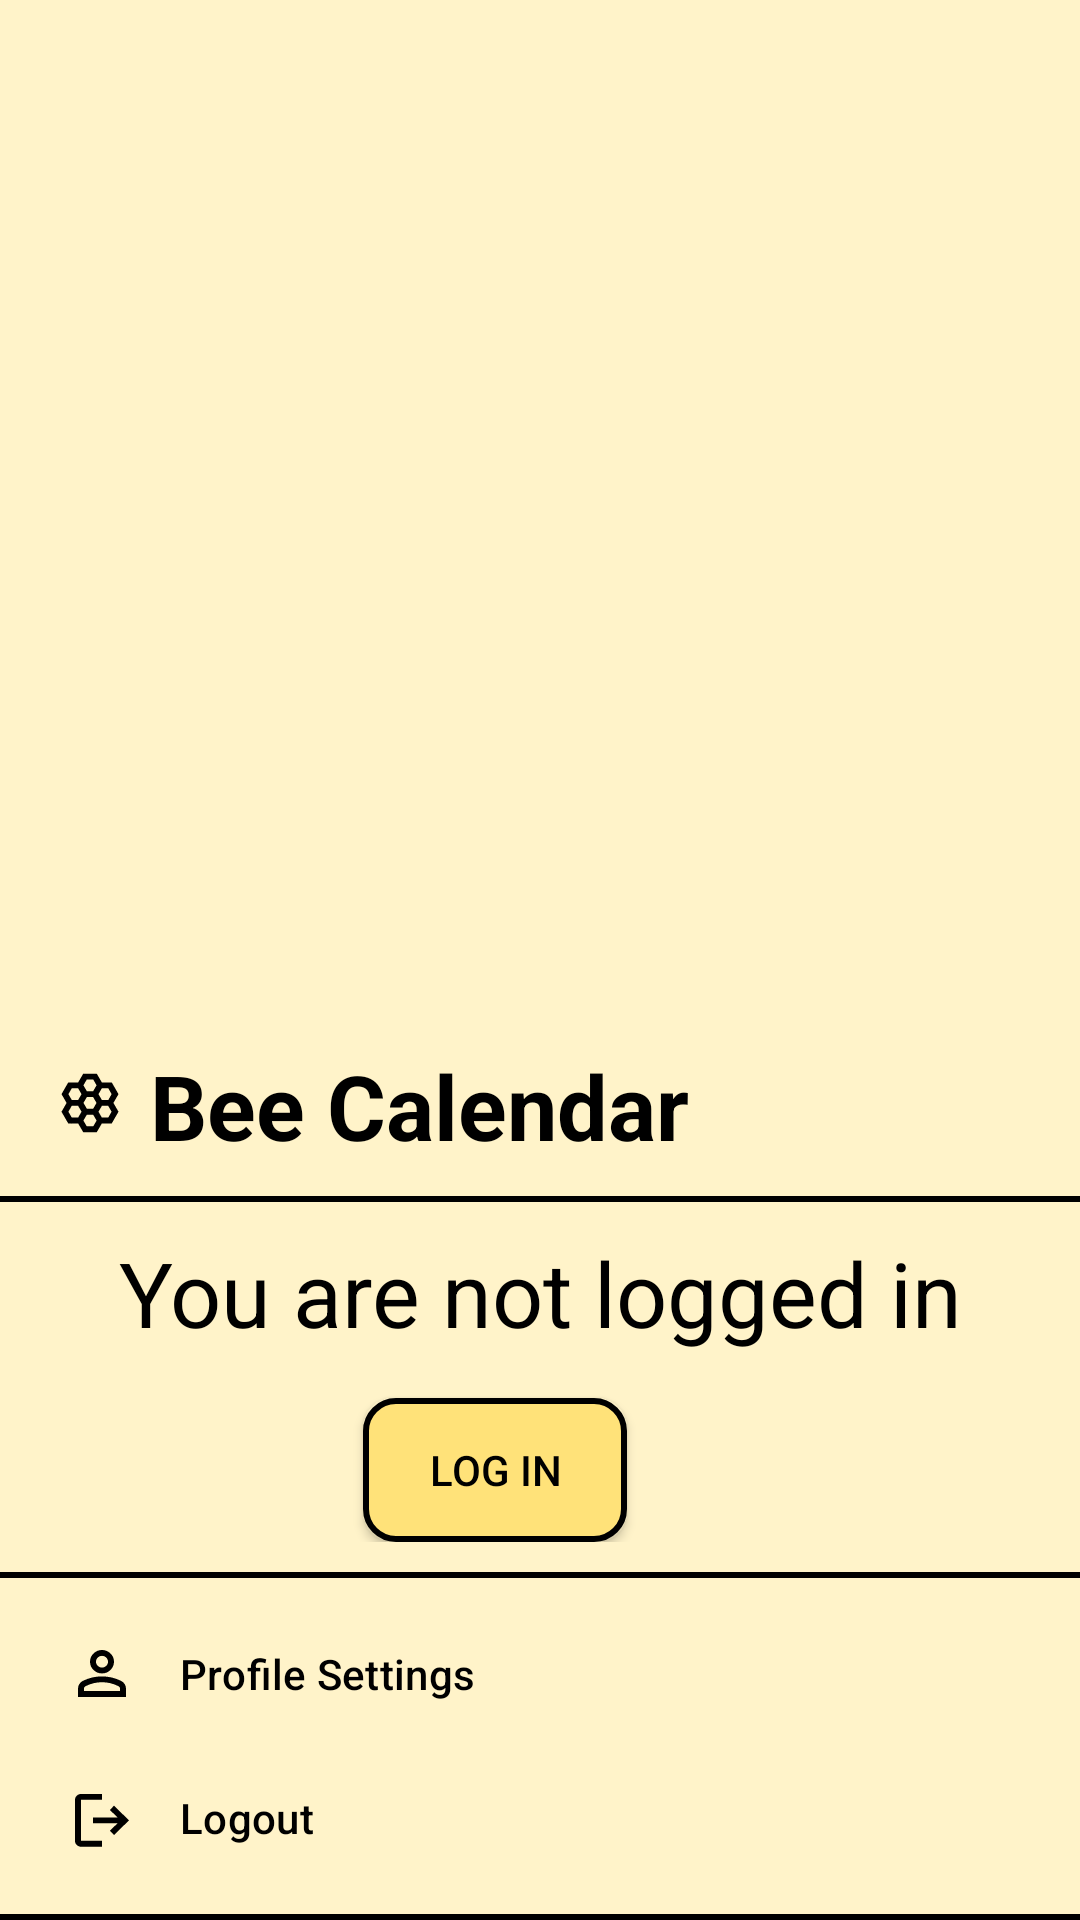

Screen size 1080w x 1920h. Icon name, then its box in pixels as (x1, y1, x2, y2):
honeycomb: (61, 1073, 119, 1133)
